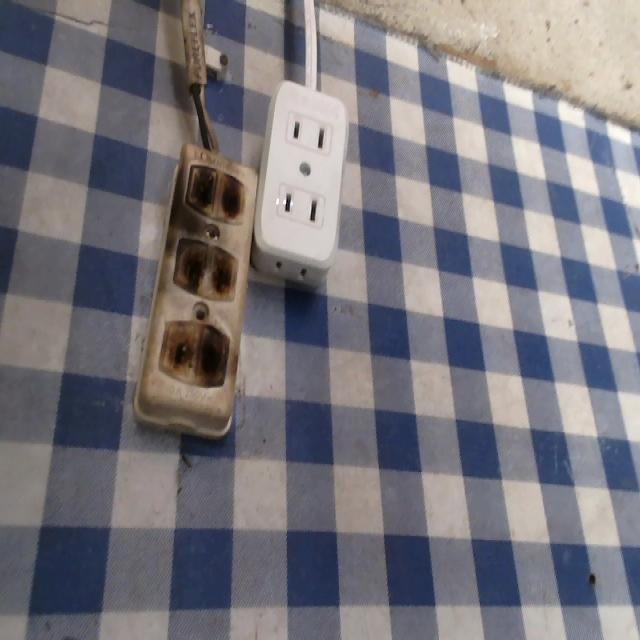-: (180, 152, 261, 232), (160, 323, 229, 392), (171, 242, 237, 310)
